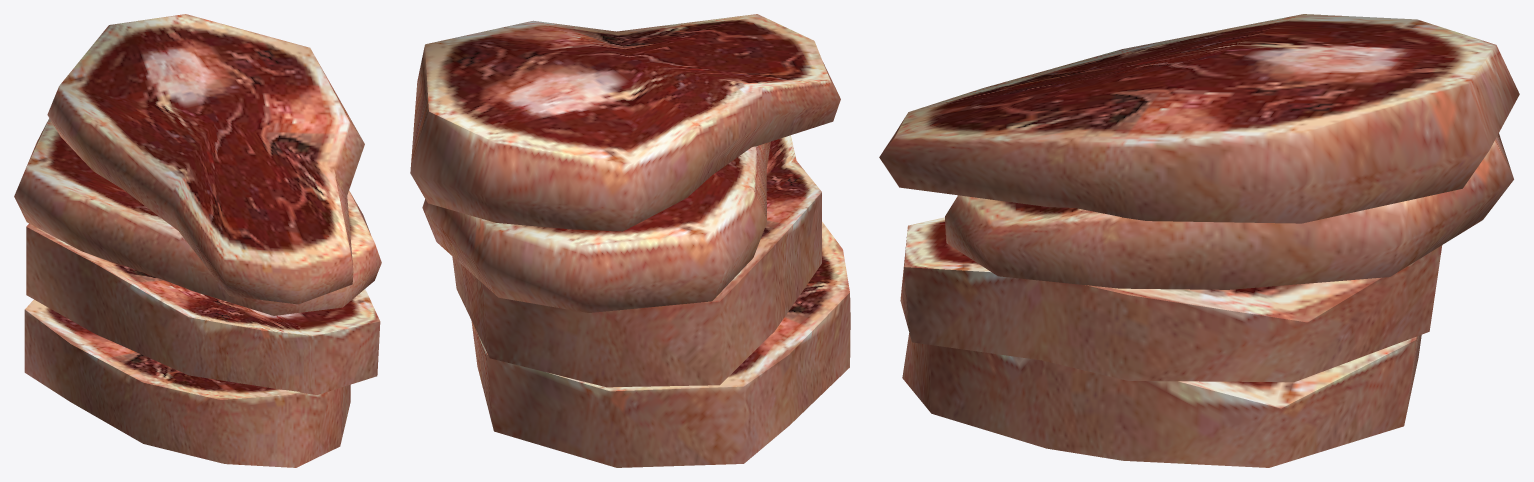
Rendered from edb_food_meat_sliced_l0.fbx.
The picture shows the model from 3 angles, left to right: view 1: azimuth 30°, elevation 25°; view 2: azimuth 150°, elevation 25°; view 3: azimuth 270°, elevation 25°; orthographic projection. The views are drawn at different scales.
Parts seen in each view (by area): view 1: mesh_node; view 2: mesh_node; view 3: mesh_node.
Part boxes in pixels (<box>): mesh_node: <box>14,14,381,467</box>; mesh_node: <box>410,14,850,467</box>; mesh_node: <box>879,14,1519,467</box>.
Size of the model in its own units: 0.2733 by 0.2512 by 0.4044.
